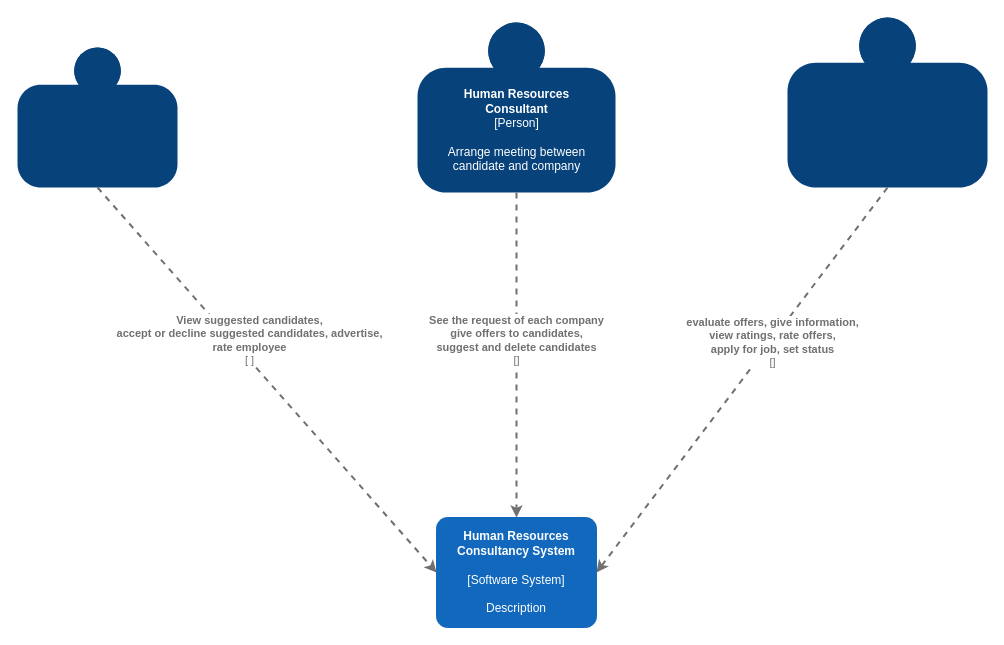
Image size: 1004x645. Some labels were removed from this diagram. The centre of each missing label's shape, as x and y in pixels:
Applicant Companies [Person] Description: pixel 97 117
Candidate [Person] The person who registers to the system to find a job.: pixel 887 102
